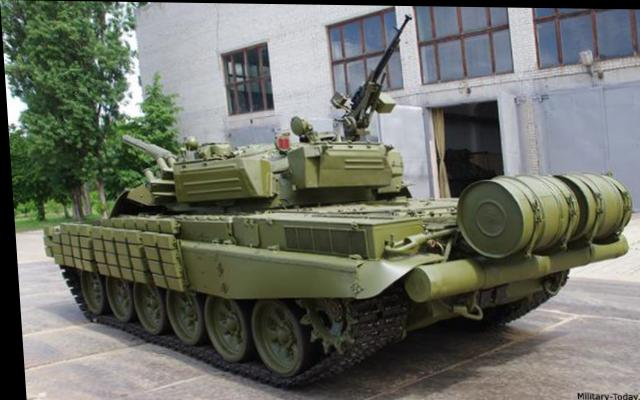tank: (37, 113, 637, 380)
